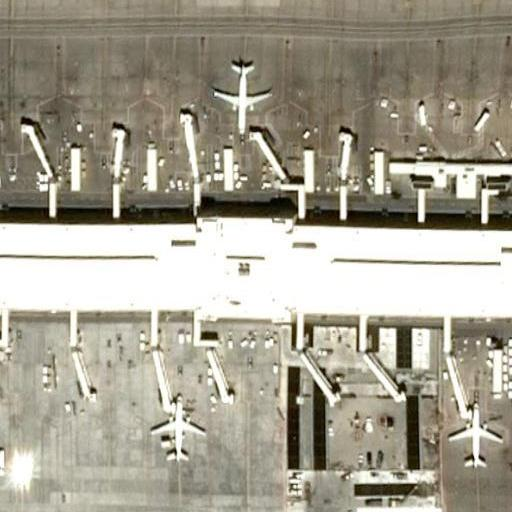Aircraft: (206, 58, 270, 140), (437, 403, 503, 481), (144, 391, 209, 465)
